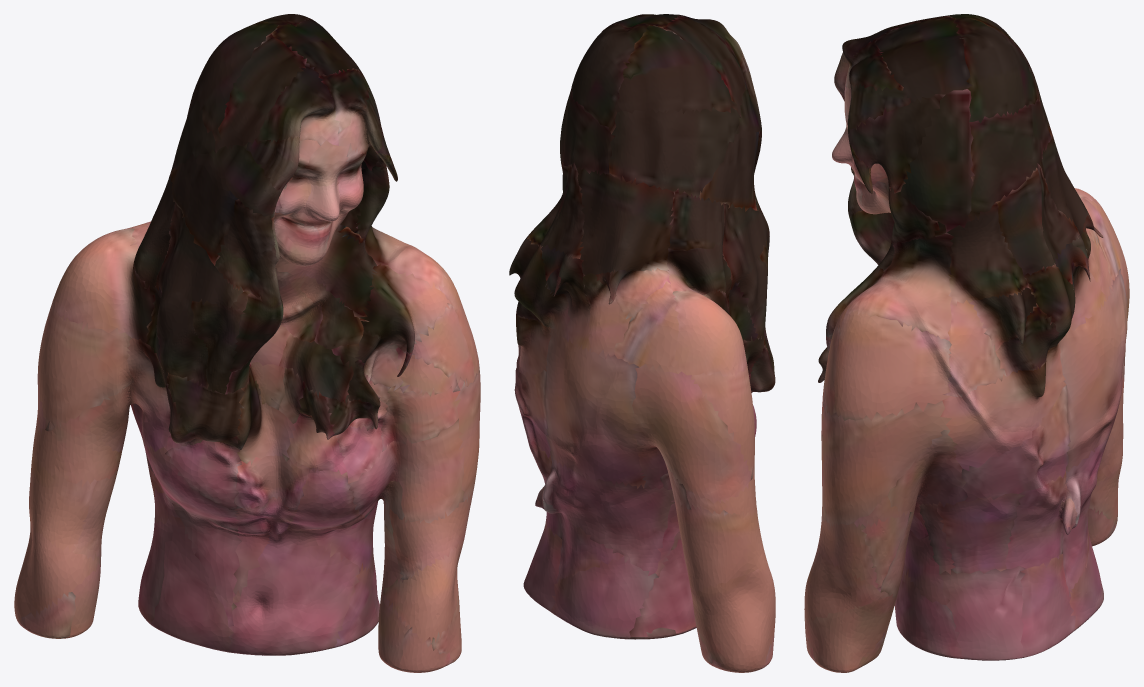
The model's file is Radiant_Smile_compressed_2MB.glb.
3 views of the same model, side by side, from view 1: azimuth 30°, elevation 25°; view 2: azimuth 150°, elevation 25°; view 3: azimuth 270°, elevation 25° (orthographic). The views are drawn at different scales.
Bounding box in the file's own units: 1.12 × 1.9 × 0.9352.
Materials: 1 (1 with a texture image).
